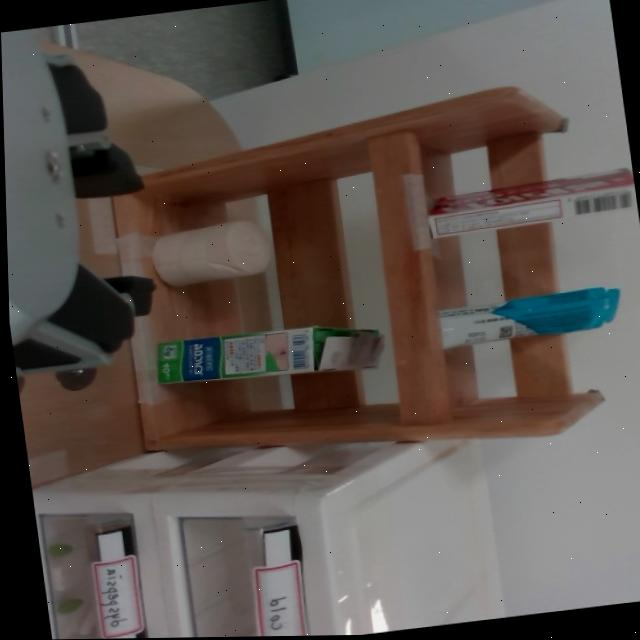bandage: (143, 215, 273, 285)
codaewon_syrup: (433, 285, 624, 346)
sore_patch: (157, 315, 381, 397)
tylenol: (423, 164, 635, 234)
